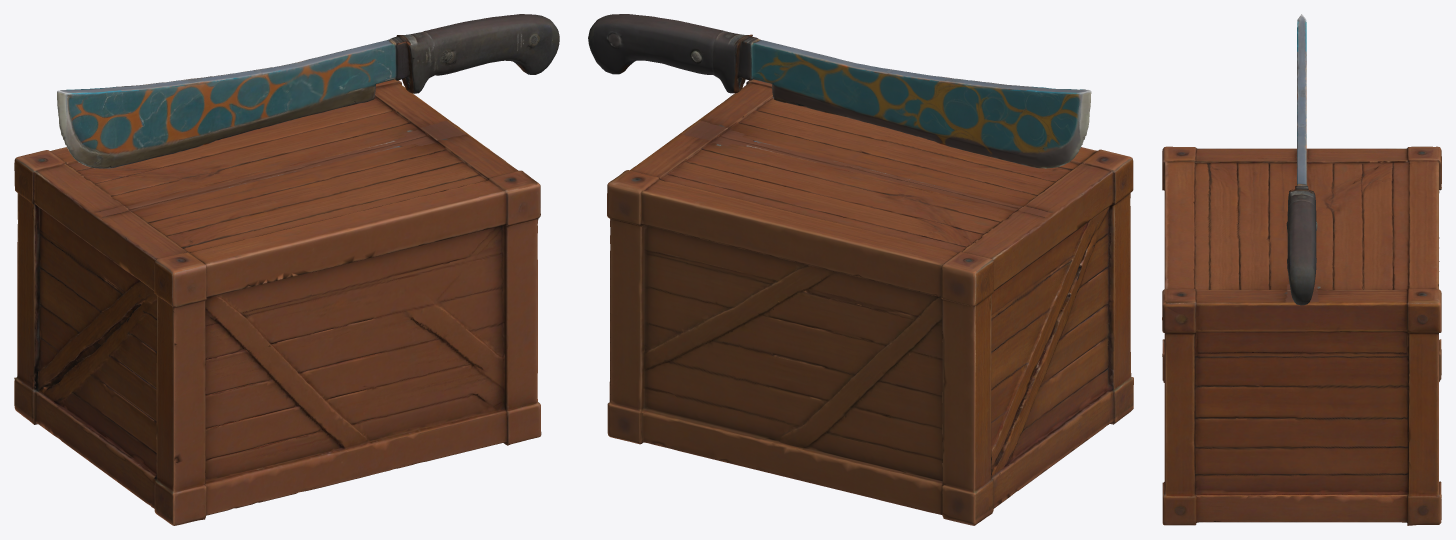
File: Enchanted_Blade_in_th_compressed.glb
3 views of the same model, side by side, from view 1: azimuth 30°, elevation 25°; view 2: azimuth 150°, elevation 25°; view 3: azimuth 270°, elevation 25° (orthographic). The views are drawn at different scales.
Size of the model in its own units: 2 by 1.48 by 1.11.
Materials: 1 (1 with a texture image).
